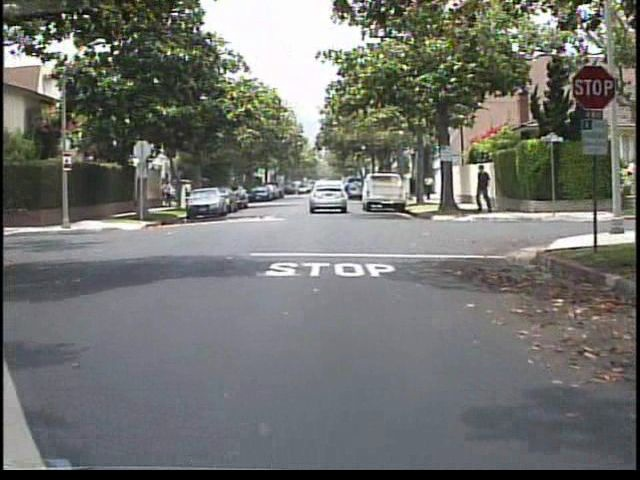person: (471, 162, 498, 219), (420, 171, 437, 204), (161, 179, 179, 208), (181, 177, 196, 208)
